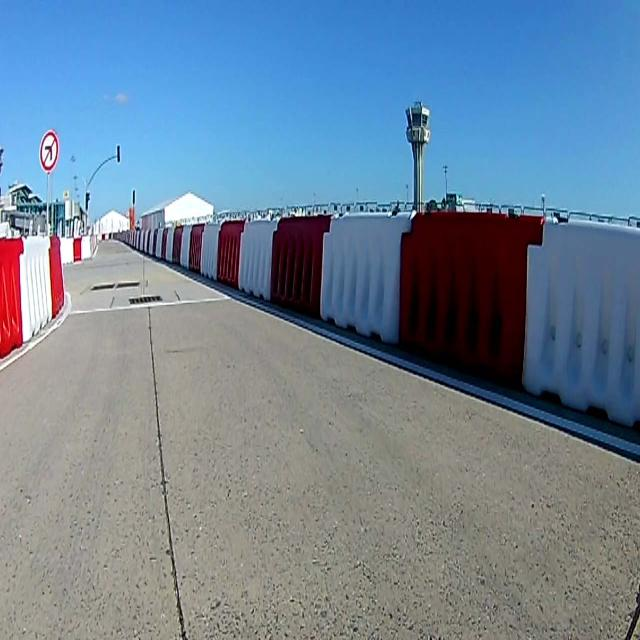soladonulmez: (38, 128, 62, 172)
